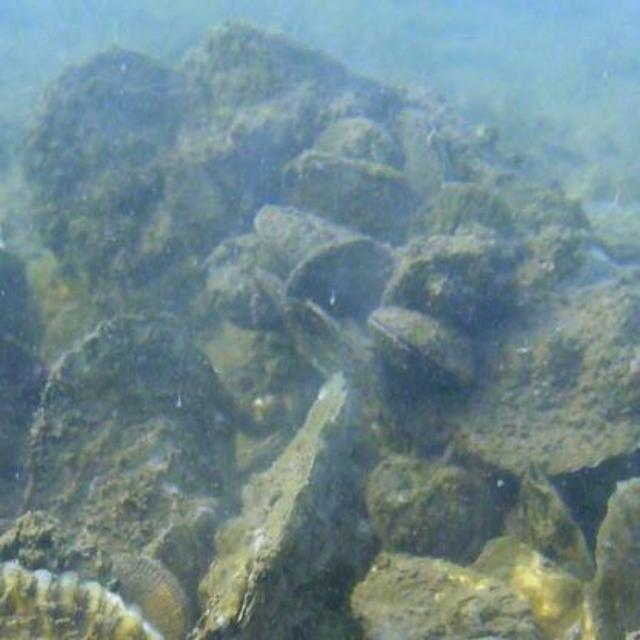Oyster-Closed: (19, 319, 237, 632), (193, 373, 354, 638), (30, 49, 178, 303), (438, 376, 638, 475), (351, 554, 549, 638), (364, 453, 500, 563), (281, 155, 427, 248), (473, 535, 596, 638), (0, 564, 167, 638), (497, 463, 598, 582), (367, 307, 479, 387), (281, 239, 400, 314), (0, 513, 114, 587), (590, 480, 638, 638), (252, 202, 361, 264), (119, 558, 192, 638), (409, 184, 514, 239), (394, 107, 450, 200), (313, 116, 401, 173), (43, 304, 115, 360)
